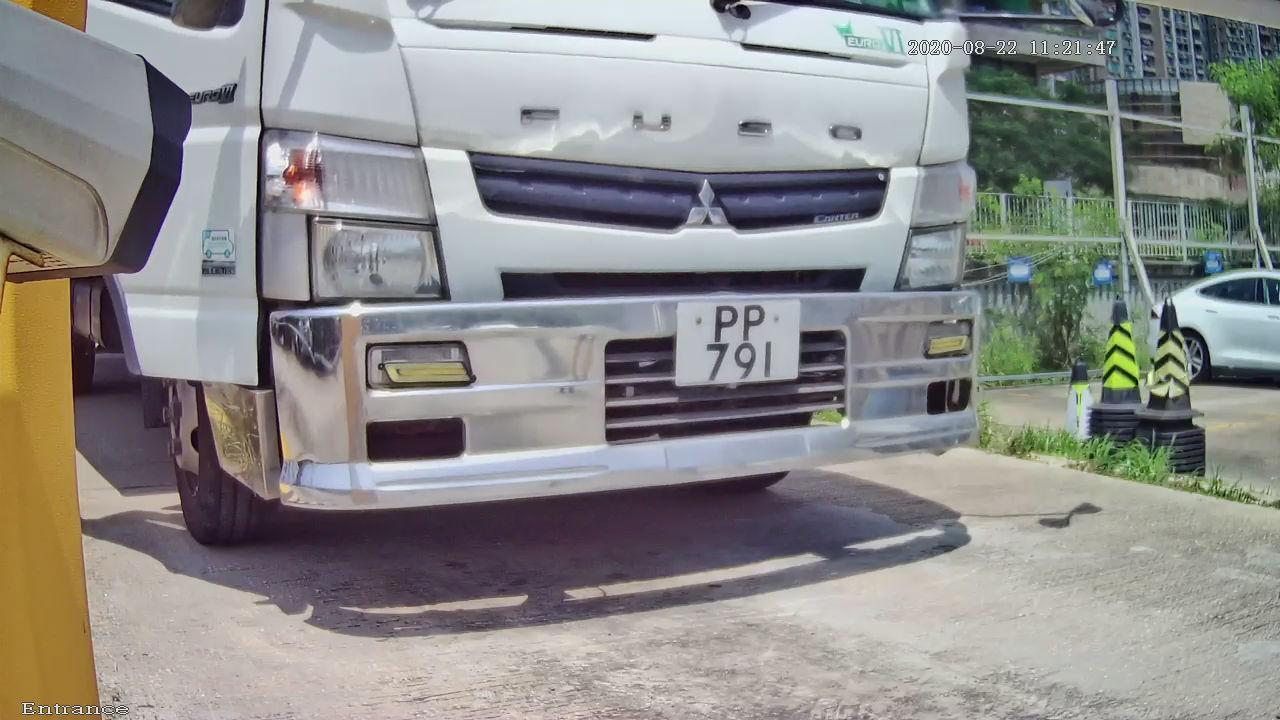Car: (86, 1, 1023, 620)
License Plate: (650, 283, 823, 411)
